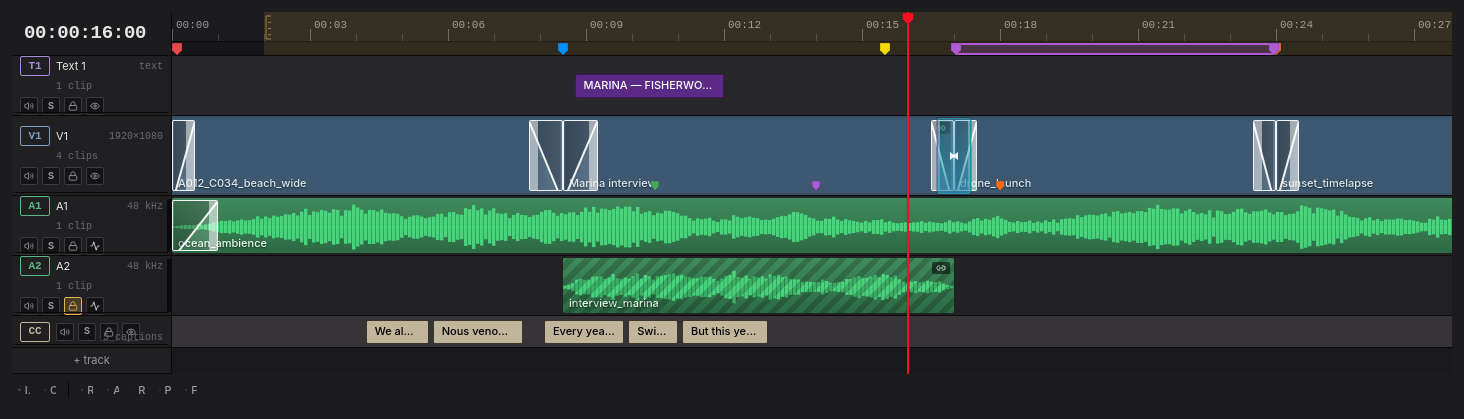
Test: SourceEditBar — hover-placement preview (C48, ≥150ms dwell, fake timers) › R23-WE D-E2 (#102): a dwell-armed preview paints the MODE BADGE with the hovered mode's own name (the Timeline carries the layer)
Hover over the button with test id "shell-source-edit-overwrite".
mouse_move(50, 390)  # box [38,378,62,402]
Wait 150 ms
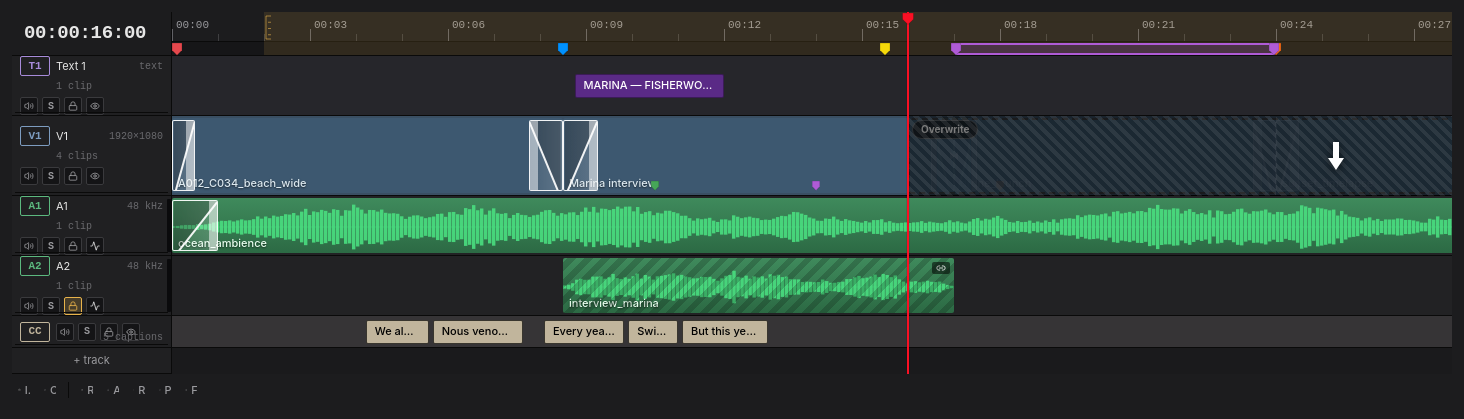
Expected: the text with test id "insert-preview-mode-badge" reads "Overwrite", [921,123,970,135]
Move the pointer off the button with test id "shell-source-edit-overwrite", box [38,378,62,402]
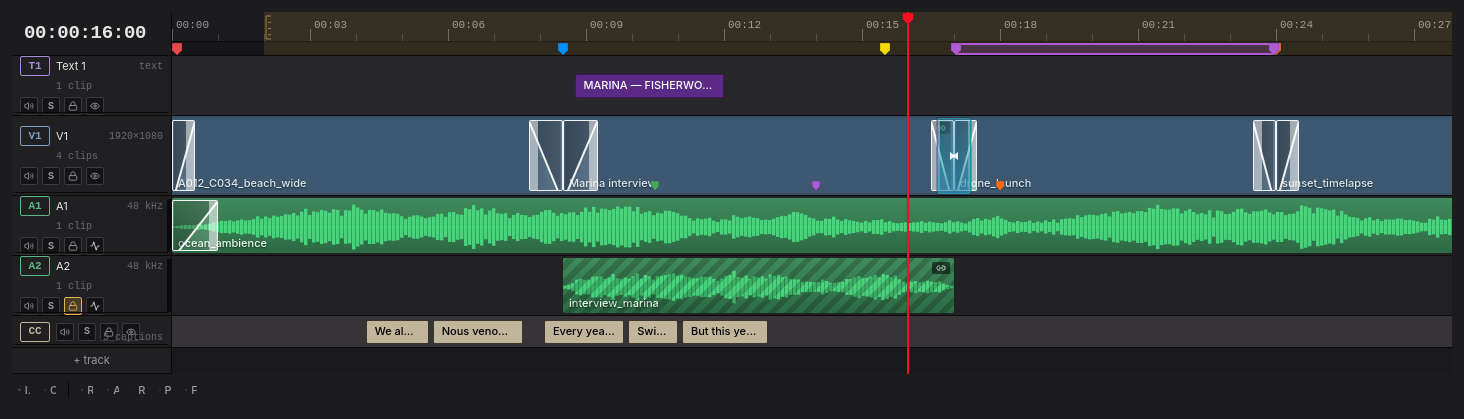
Expected: the text with test id "insert-preview-mode-badge" is gone
